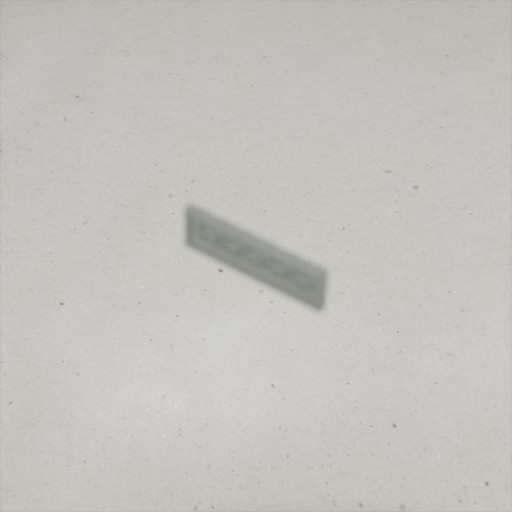lego: (183, 202, 329, 314)
